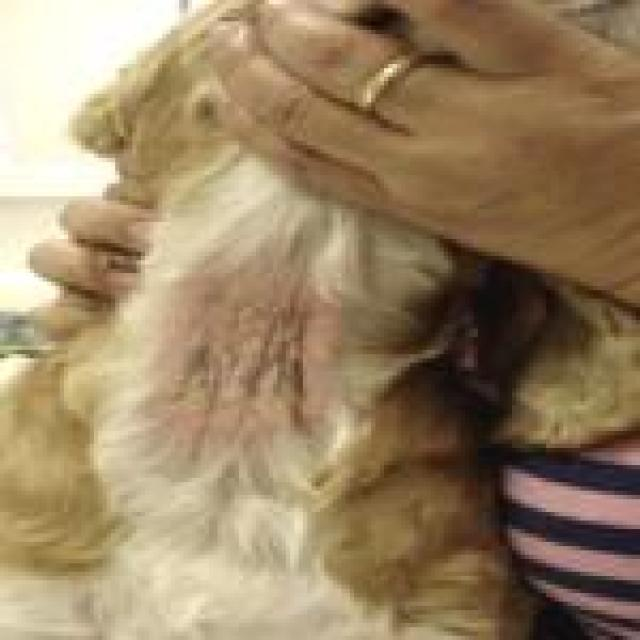fungal infection: (174, 258, 340, 439)
